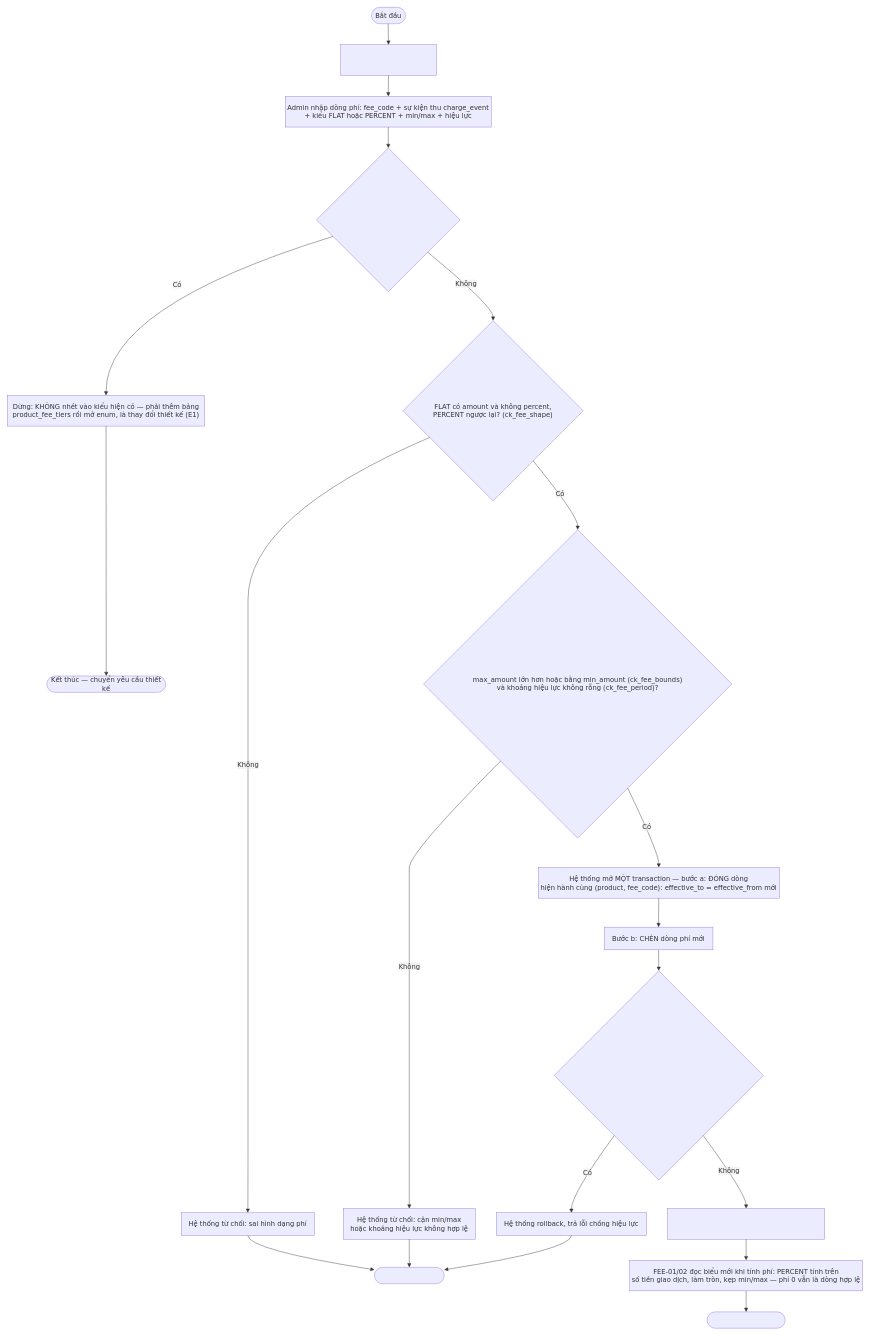
This 870x1336 diagram has some shape labels left out. The box of each missing label's shape, as (x1, y1, x2, y2) in pixels:
Admin chọn sản phẩm, xem biểu phí hiện hành: (340, 44, 437, 75)
Cần phí bậc thang (TIERED)?: (316, 148, 460, 292)
DB báo ex_fee_overlap (chồng hiệu lực cùng product, fee_code)?: (554, 970, 763, 1180)
Hệ thống commit và ghi audit — biểu phí mới tự hiệu lực, không cần deploy: (667, 1208, 825, 1239)
Kết thúc — thành công: (707, 1311, 785, 1328)
Kết thúc — thất bại: (374, 1267, 444, 1284)
